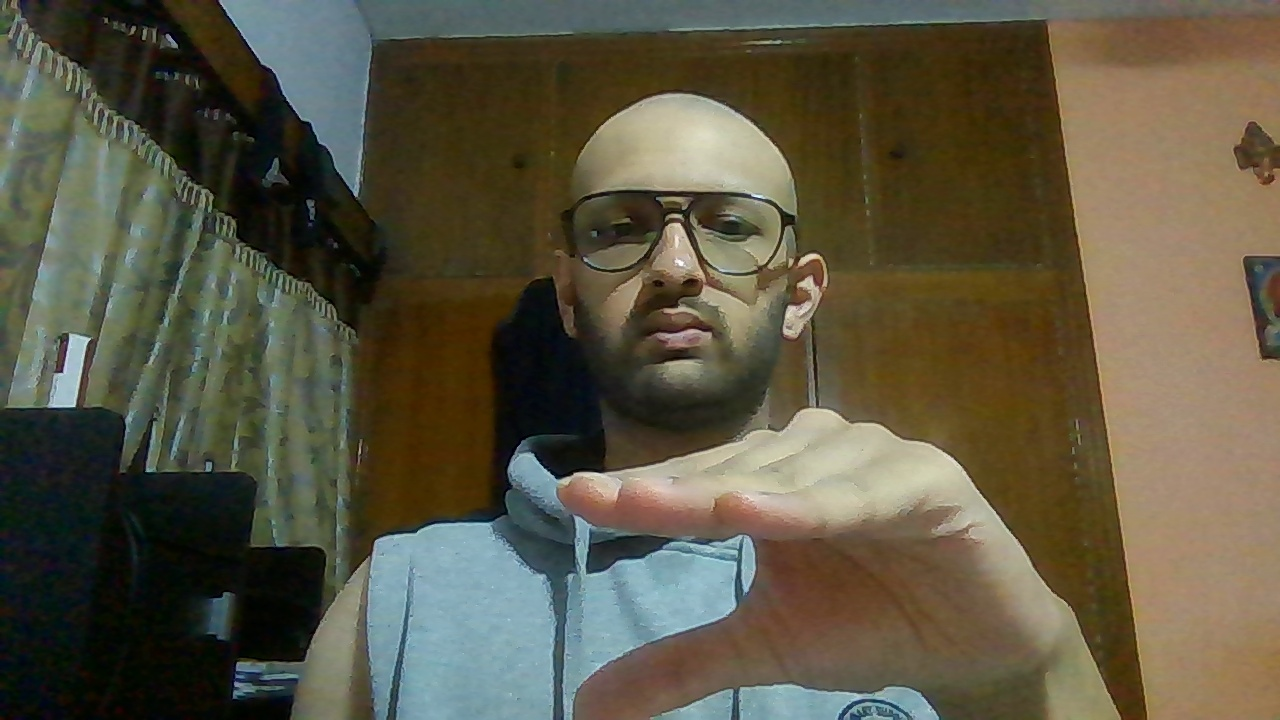No: (550, 406, 1078, 720)
